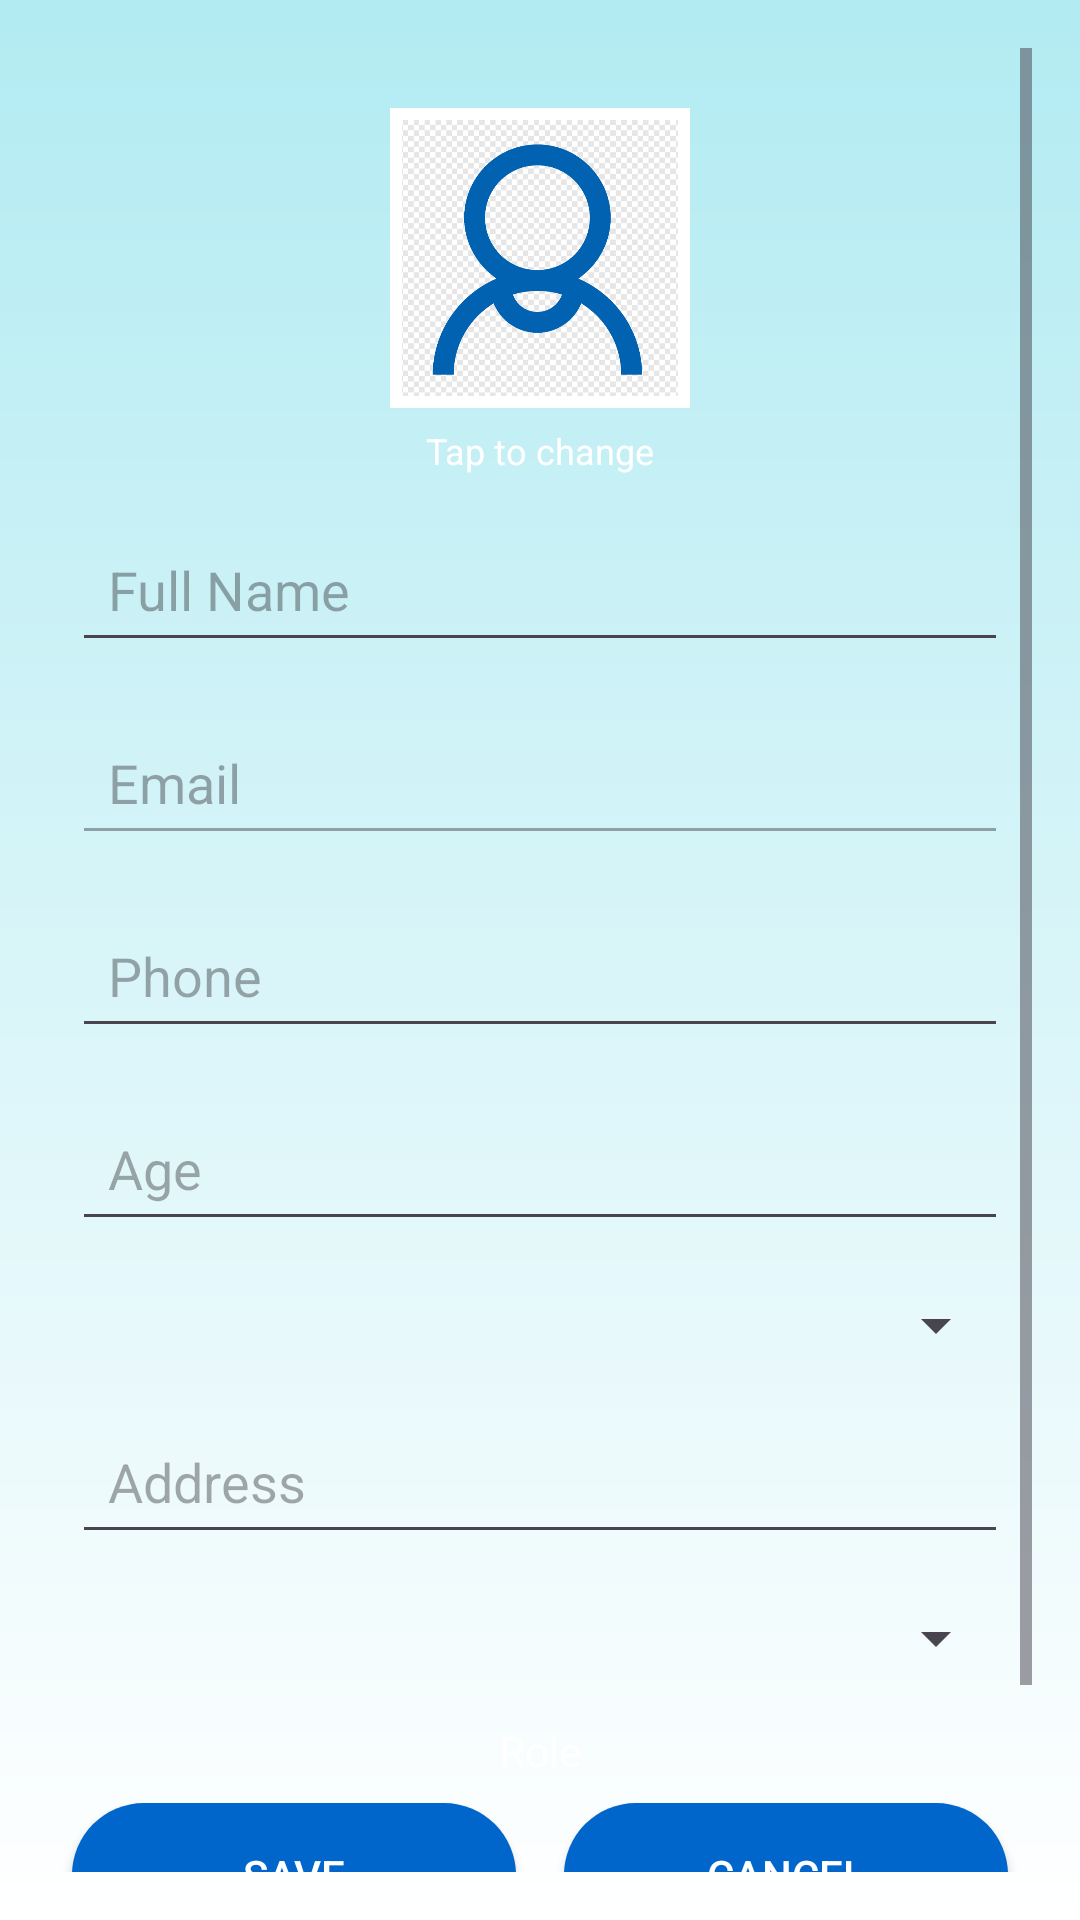

Icons on this 1080w x 1920h Android screen, each with its box as Rect(x1, y1, x2, y2):
boy: Rect(390, 108, 690, 408)
